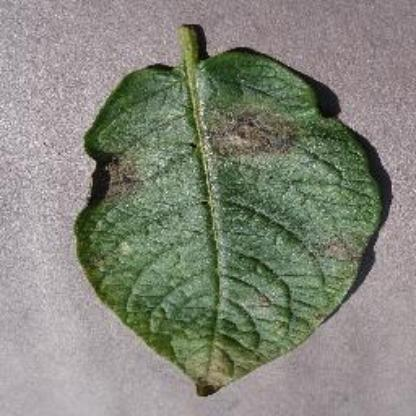Late-Blight: (26, 13, 394, 408)
